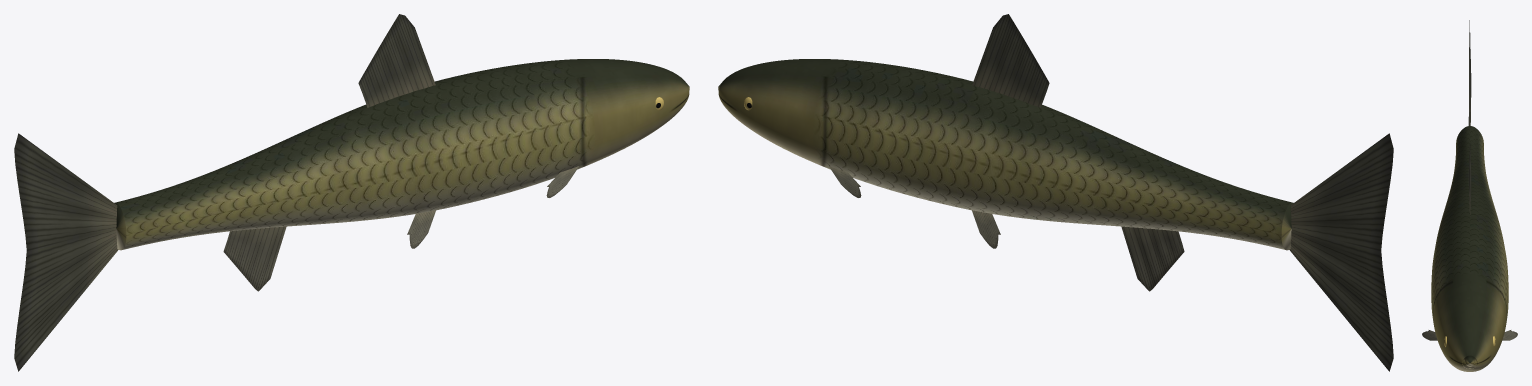
The model's file is fish_grass_carp.gltf.
3 views of the same model, side by side, from view 1: azimuth 30°, elevation 25°; view 2: azimuth 150°, elevation 25°; view 3: azimuth 270°, elevation 25° (orthographic). The views are drawn at different scales.
Visible parts, largest first — view 1: fish_grass_carp; view 2: fish_grass_carp; view 3: fish_grass_carp.
Boxes of the visible parts, x1=… form: fish_grass_carp: x1=14, y1=14, x2=689, y2=371; fish_grass_carp: x1=718, y1=14, x2=1393, y2=371; fish_grass_carp: x1=1422, y1=20, x2=1517, y2=371.
Bounding box in the file's own units: 0.7076 × 0.2653 × 0.1107.
Materials: 6 (4 with a texture image).
